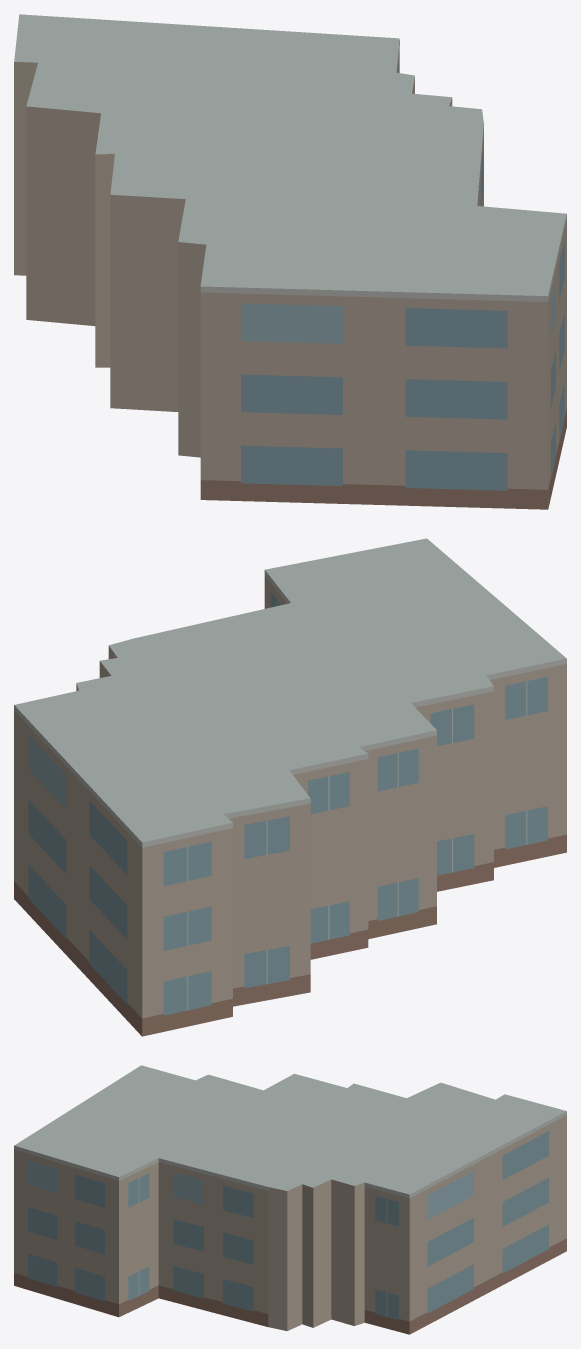
File: survey-upis-32484676.glb
3 renders of one model, top to bottom at view 1: azimuth 30°, elevation 25°; view 2: azimuth 150°, elevation 25°; view 3: azimuth 270°, elevation 25°, orthographic. The views are drawn at different scales.
Parts seen in each view (by area): view 1: survey-upis-32484676.tmp; view 2: survey-upis-32484676.tmp; view 3: survey-upis-32484676.tmp.
Part boxes in pixels (bbox=[...]): survey-upis-32484676.tmp: bbox=[14, 14, 566, 509]; survey-upis-32484676.tmp: bbox=[14, 538, 566, 1036]; survey-upis-32484676.tmp: bbox=[14, 1065, 566, 1334].
Bounding box in the file's own units: 17.42 × 8.8 × 31.47.
